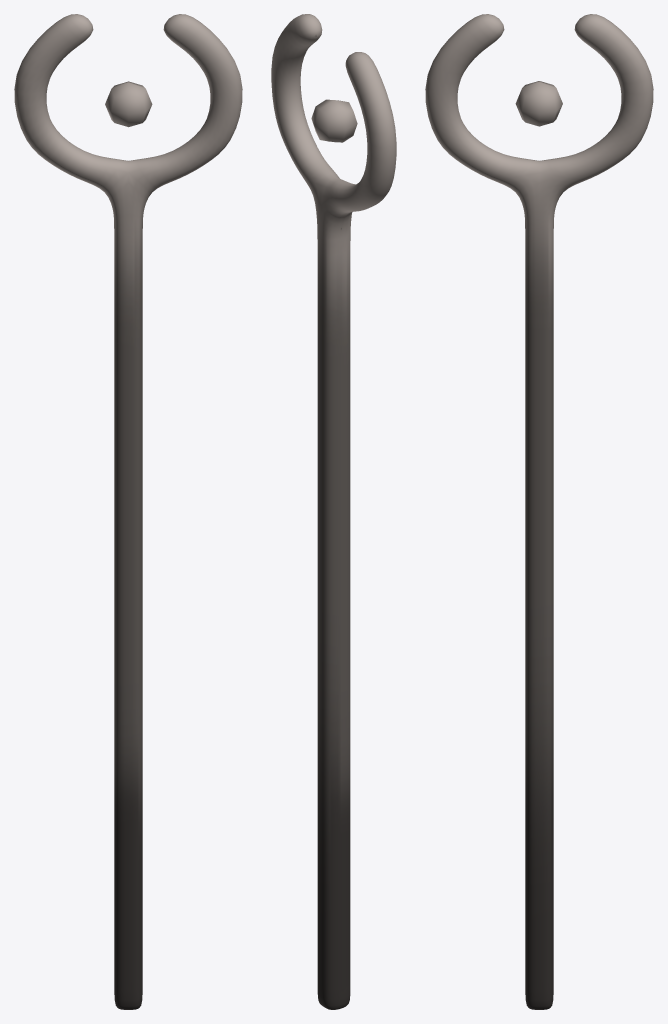
The model's file is Weapon_GatherAttract.fbx.
3 renders of one model, left to right at view 1: azimuth 90°, elevation 25°; view 2: azimuth 210°, elevation 25°; view 3: azimuth 270°, elevation 25°, orthographic. The views are drawn at different scales.
Visible parts, largest first — view 1: Cube.046; view 2: Cube.046; view 3: Cube.046.
Boxes of the visible parts, x1,y1,x2,y2 form: Cube.046: [14, 14, 242, 1009]; Cube.046: [271, 14, 396, 1009]; Cube.046: [425, 14, 653, 1009].
Size of the model in its own units: 40.88 by 943 by 196.
